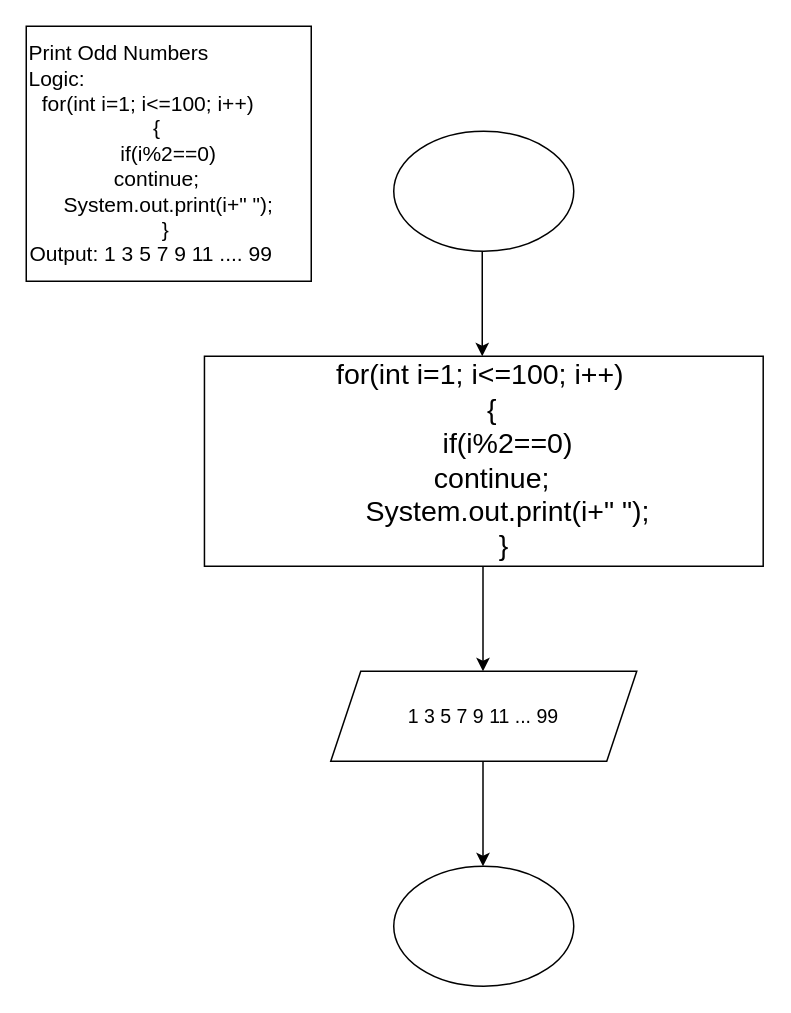
This 791x1013 diagram has some shape labels left out. The centre of each missing label's shape, as x and y in pixels:
Start: (483,190)
Stop: (483,925)
